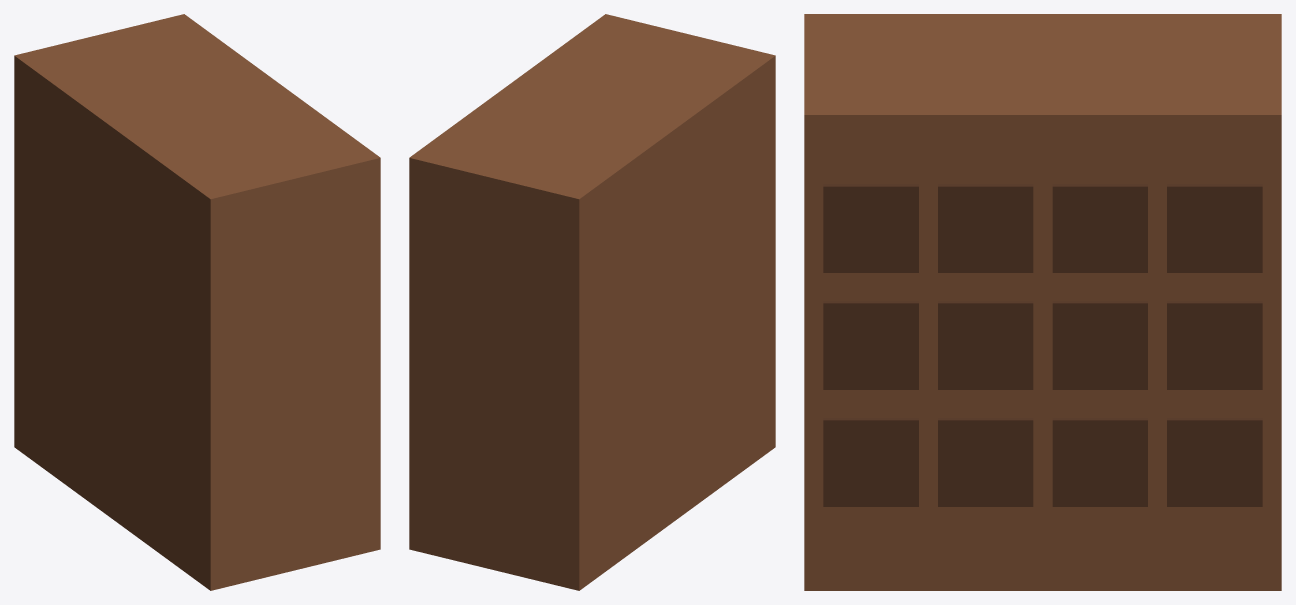
Rendered from card_catalog.glb.
The picture shows the model from 3 angles, left to right: view 1: azimuth 30°, elevation 25°; view 2: azimuth 150°, elevation 25°; view 3: azimuth 270°, elevation 25°; orthographic projection. The views are drawn at different scales.
Parts seen in each view (by area): view 1: Box1; view 2: Box1; view 3: Box1, Box2, Box3, Box4, Box5, Box6, Box7, Box8, Box9, Box10, Box11, Box12 (+1 smaller).
Boxes of the visible parts, box(x1,y1,x2,y2) form: Box1: box(14, 14, 380, 590); Box1: box(409, 14, 775, 590); Box1: box(804, 14, 1281, 590); Box2: box(823, 418, 918, 506); Box3: box(823, 301, 918, 389); Box4: box(823, 184, 918, 272); Box5: box(938, 418, 1033, 506); Box6: box(938, 301, 1033, 389); Box7: box(938, 184, 1033, 272); Box8: box(1052, 418, 1147, 506); Box9: box(1052, 301, 1147, 389); Box10: box(1052, 184, 1147, 272); Box11: box(1167, 418, 1262, 506); Box12: box(1167, 301, 1262, 389).
Bounding box in the file's own units: 0.512 × 1.1 × 1.
